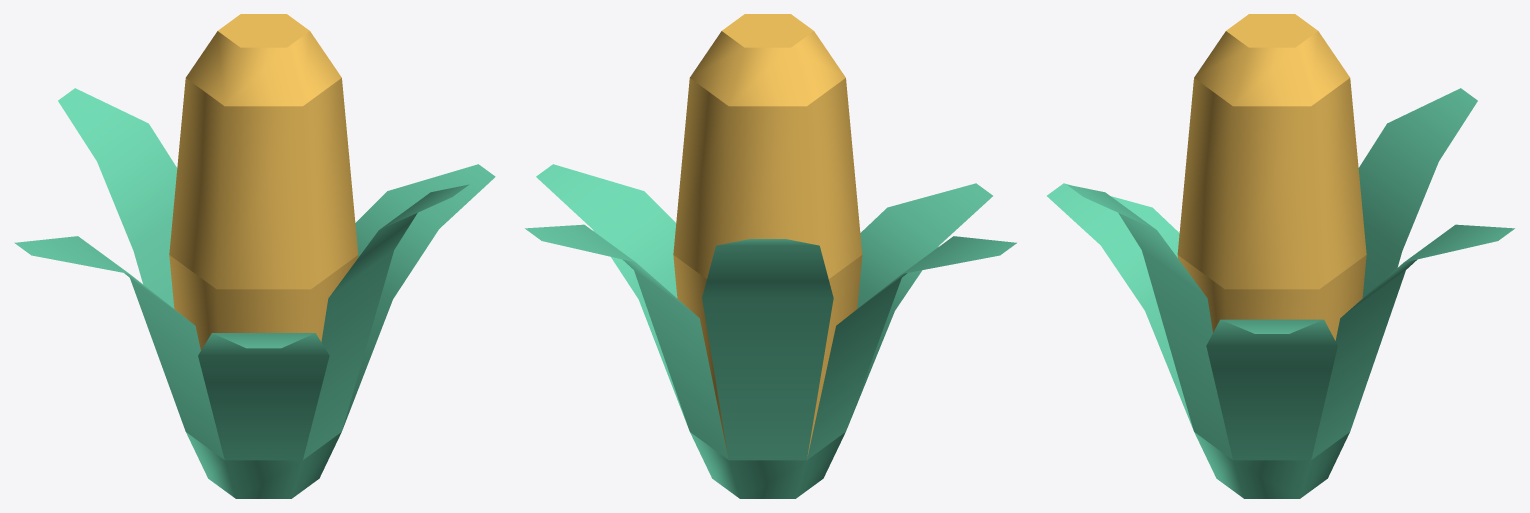
Rendered from corn.fbx.
3 renders of one model, left to right at view 1: azimuth 30°, elevation 25°; view 2: azimuth 150°, elevation 25°; view 3: azimuth 270°, elevation 25°, orthographic.
Parts seen in each view (by area): view 1: corn; view 2: corn; view 3: corn.
Part boxes in pixels (x1,y1,x2,y2): corn: (14, 14, 495, 498); corn: (525, 14, 1016, 498); corn: (1047, 14, 1514, 498).
Bounding box in the file's own units: 3.43 × 3.16 × 3.
